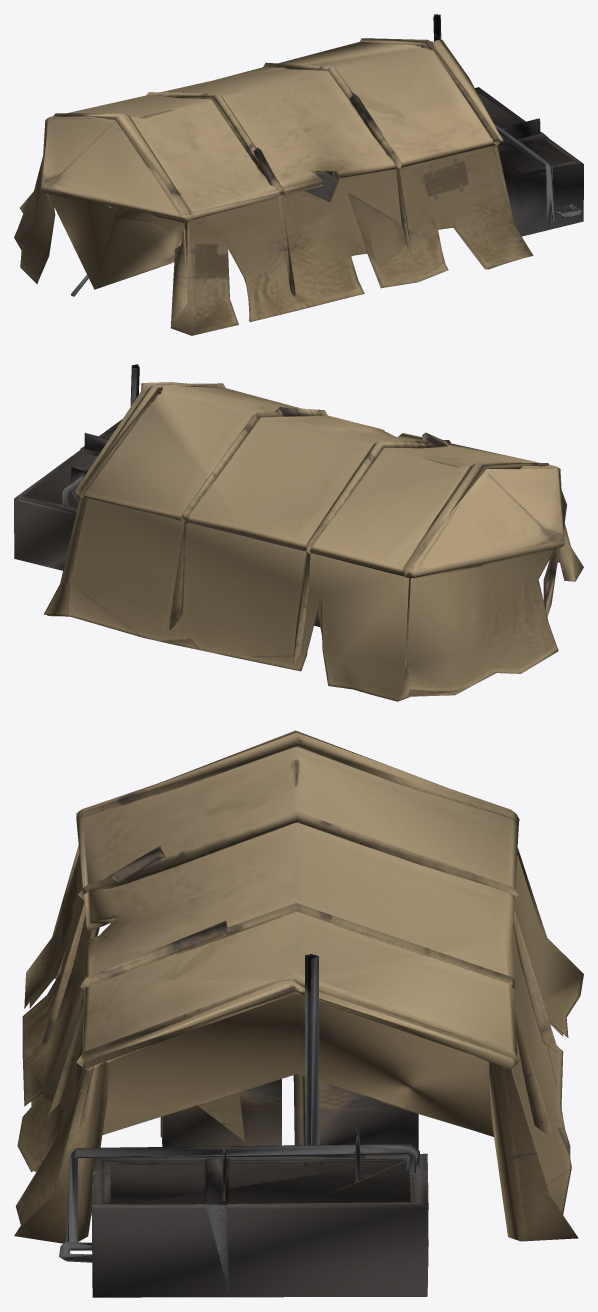
File: Meshy_AI_Tattered_Desert_Tent_0831102941_texture.fbx
The picture shows the model from 3 angles, top to bottom: view 1: azimuth 30°, elevation 25°; view 2: azimuth 150°, elevation 25°; view 3: azimuth 270°, elevation 25°; orthographic projection. The views are drawn at different scales.
Visible parts, largest first — view 1: mesh_node; view 2: mesh_node; view 3: mesh_node.
Boxes of the visible parts, bbox=[...] form: mesh_node: bbox=[14, 14, 583, 335]; mesh_node: bbox=[14, 364, 583, 701]; mesh_node: bbox=[14, 730, 583, 1297].
Size of the model in its own units: 100 by 36.04 by 64.45.
1 material, 1 textured.
